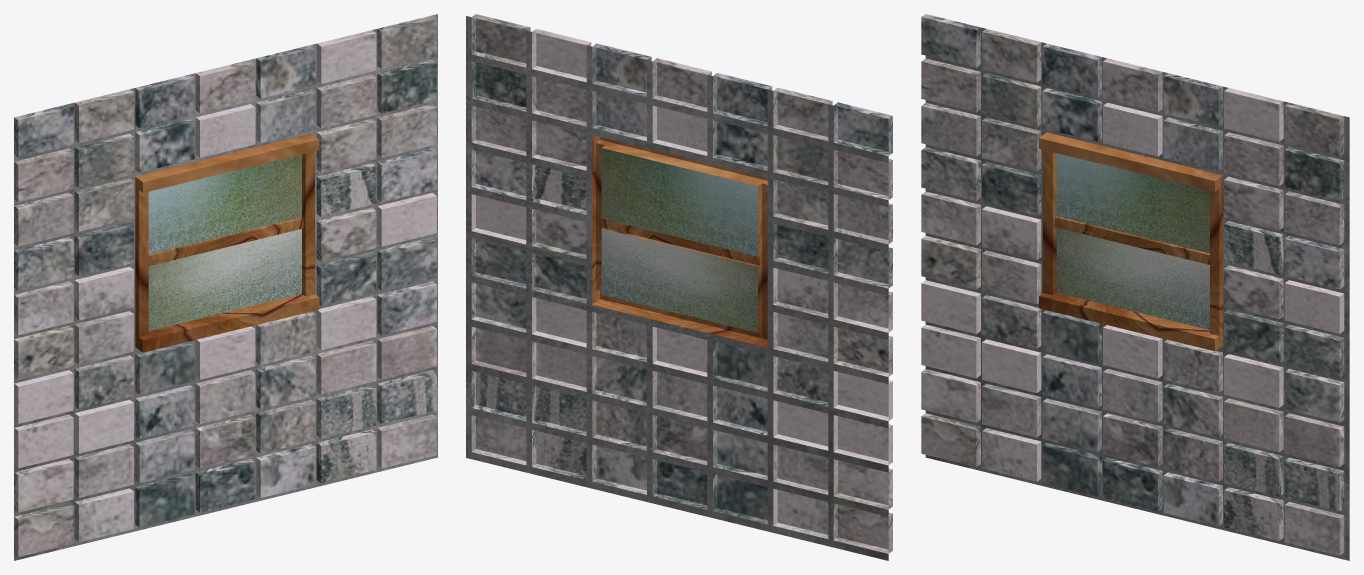
File: Pared_017.fbx
3 views of the same model, side by side, from view 1: azimuth 30°, elevation 25°; view 2: azimuth 150°, elevation 25°; view 3: azimuth 330°, elevation 25° (orthographic).
Visible parts, largest first — view 1: Plane; view 2: Plane; view 3: Plane.
Part boxes in pixels (x1,y1,x2,y2): Plane: (14,14,437,560); Plane: (466,14,892,560); Plane: (921,14,1349,560).
Size of the model in its own units: 600 by 600 by 19.49.
